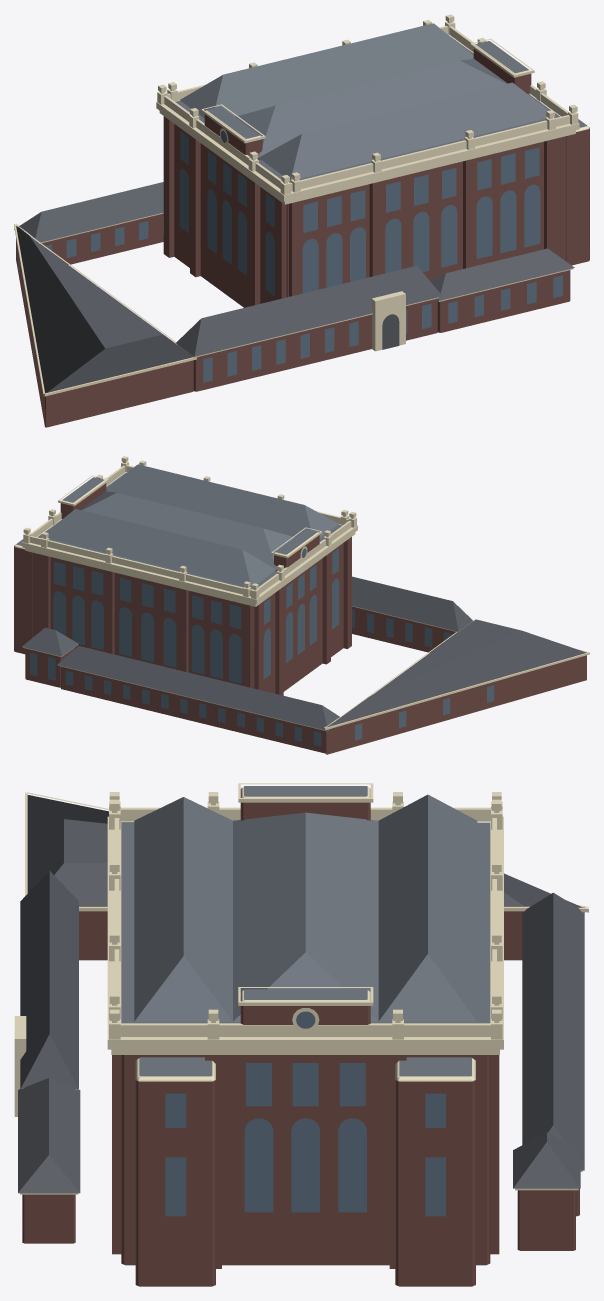
Rendered from amsterdam-portuguese-synagogue.glb.
3 renders of one model, top to bottom at view 1: azimuth 30°, elevation 25°; view 2: azimuth 150°, elevation 25°; view 3: azimuth 270°, elevation 25°, orthographic. The views are drawn at different scales.
Parts seen in each view (by area): view 1: Portuguese Synagogue; view 2: Portuguese Synagogue; view 3: Portuguese Synagogue.
Part boxes in pixels (<box>): Portuguese Synagogue: <box>14,14,589,427</box>; Portuguese Synagogue: <box>14,456,589,754</box>; Portuguese Synagogue: <box>14,783,588,1286</box>.
Size of the model in its own units: 80.32 by 24.2 by 44.32.
